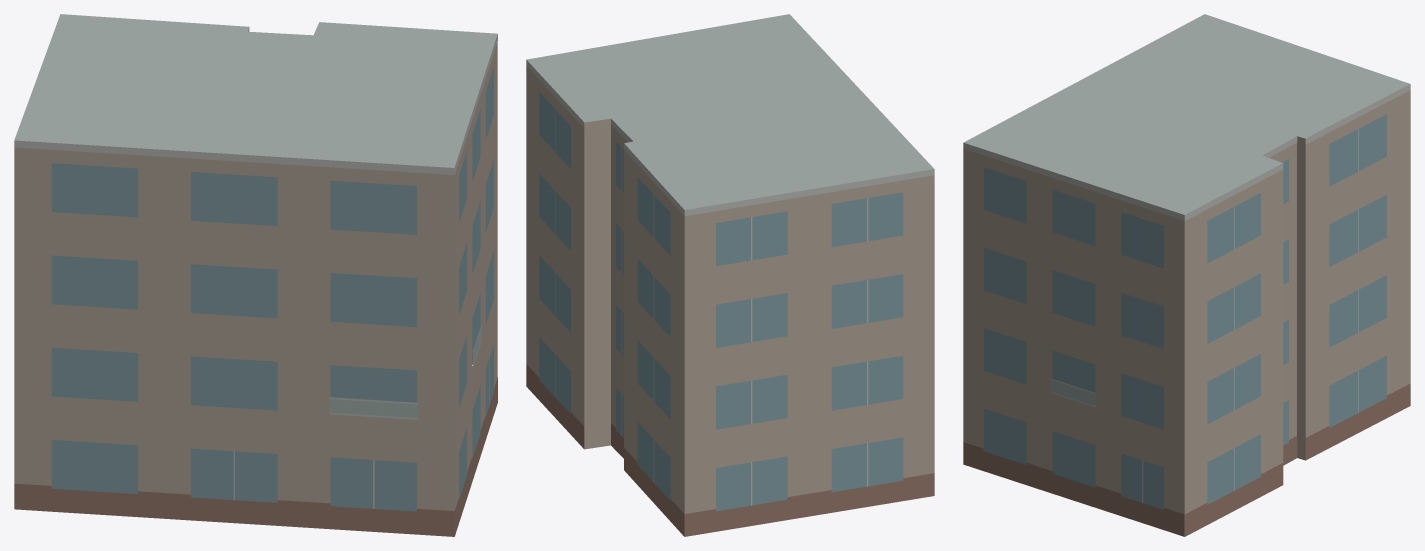
Rendered from survey-upis-32761268.glb.
3 renders of one model, left to right at view 1: azimuth 30°, elevation 25°; view 2: azimuth 150°, elevation 25°; view 3: azimuth 270°, elevation 25°, orthographic. The views are drawn at different scales.
Visible parts, largest first — view 1: survey-upis-32761268.tmp; view 2: survey-upis-32761268.tmp; view 3: survey-upis-32761268.tmp.
Boxes of the visible parts, x1,y1,x2,y2 form: survey-upis-32761268.tmp: [14, 14, 497, 536]; survey-upis-32761268.tmp: [526, 14, 934, 536]; survey-upis-32761268.tmp: [963, 14, 1410, 536].
Bounding box in the file's own units: 17.23 × 12.86 × 16.2.
